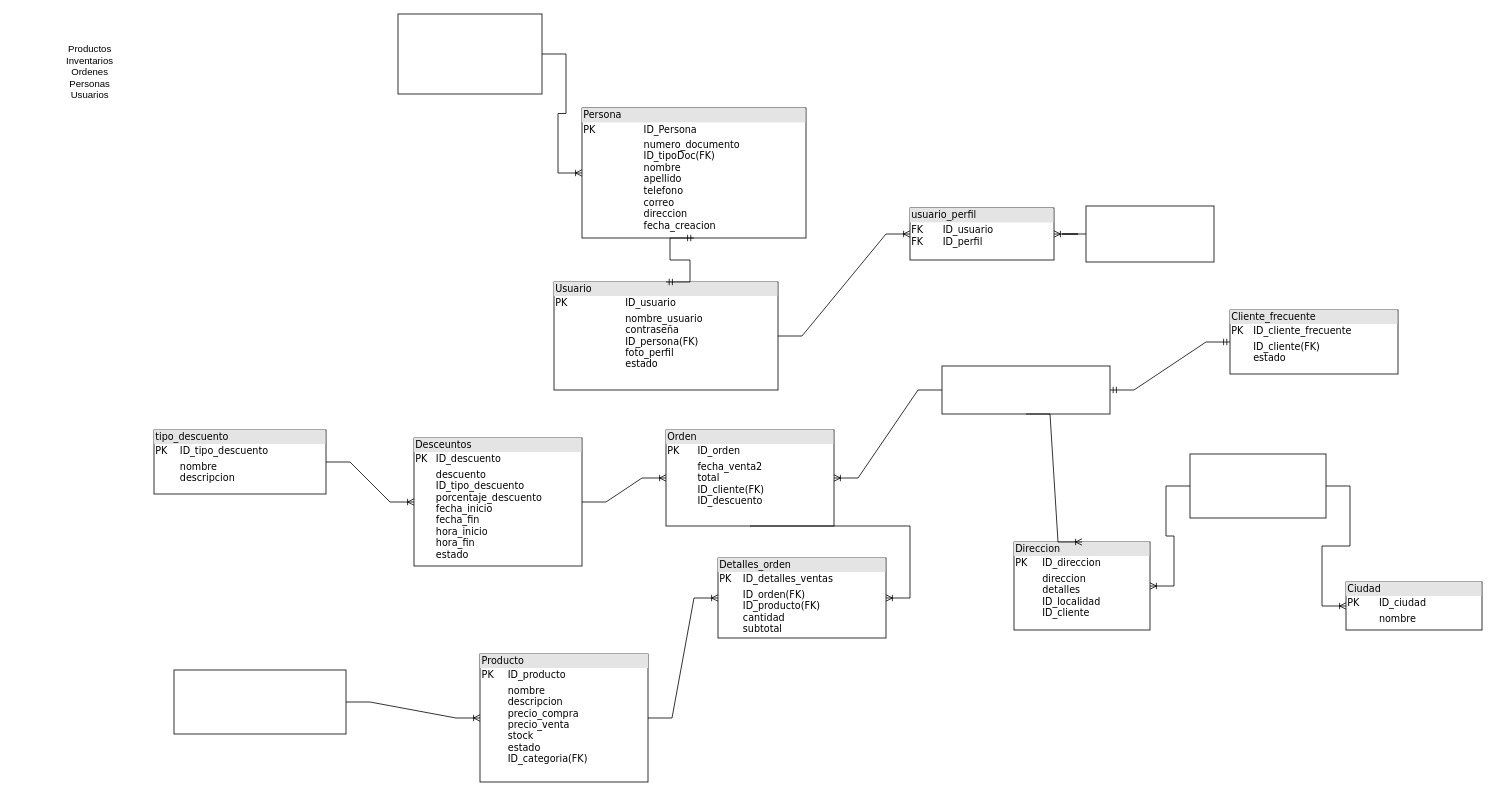
Image size: 1496x796. Some labels were removed from this diagram. Each missing label, with the centre of its shape:
Categoria PK ID_categoria nombre_categoria descripcion: point 259,701
Cliente PK ID_cliente ID_usuario(FK): point 1025,389
Localidad PK ID_localidad nombre IDciudad(FK): point 1257,485
Perfil PK ID_perfil nombre descripcion: point 1149,233
Tipo_Documento PK ID_tipoDoc nombre sigla: point 469,53
